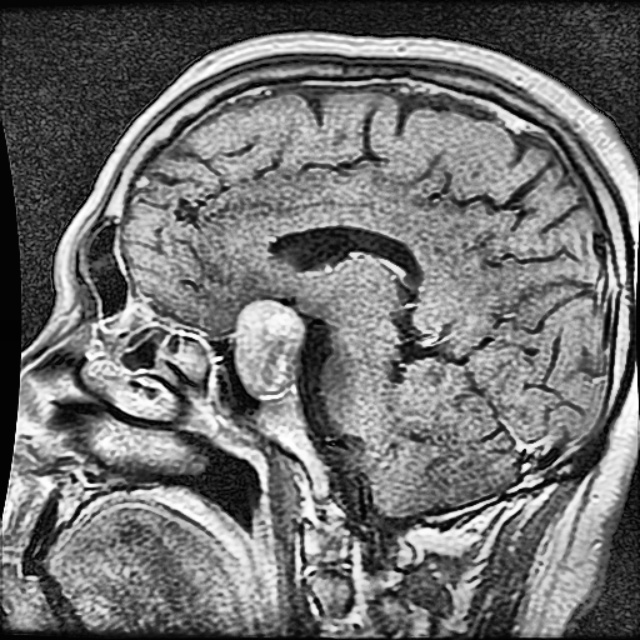Pituitary: (233, 300, 304, 398)
